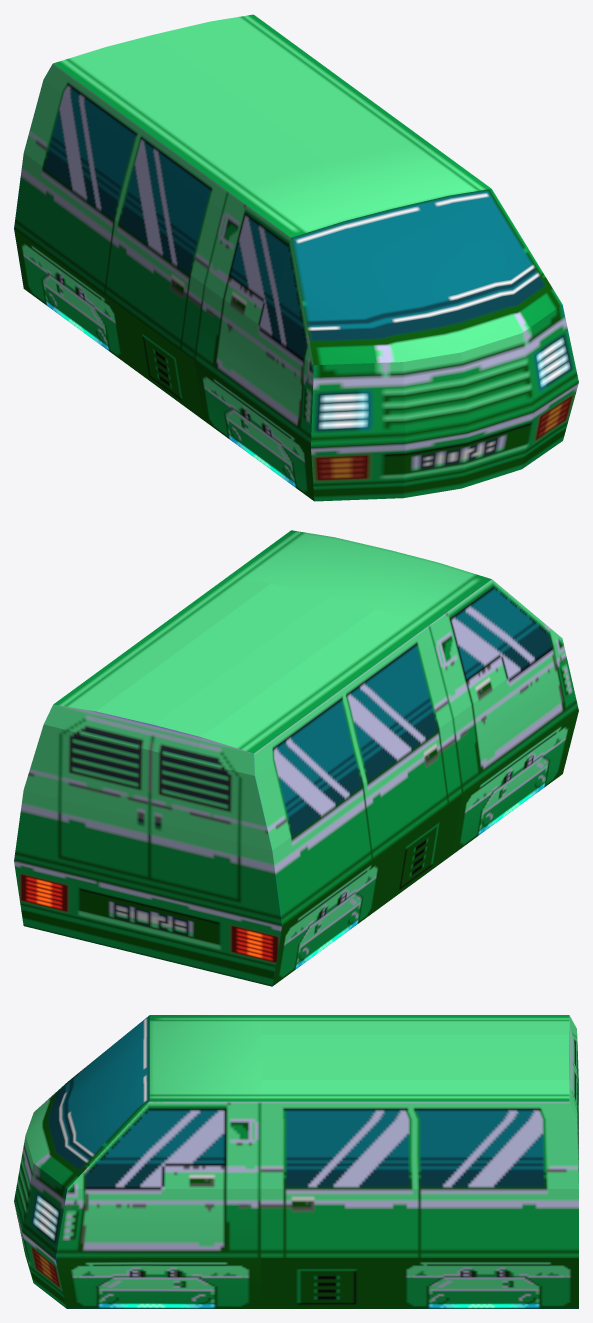
The model's file is hover-furgon.glb.
3 renders of one model, top to bottom at view 1: azimuth 30°, elevation 25°; view 2: azimuth 150°, elevation 25°; view 3: azimuth 270°, elevation 25°, orthographic. The views are drawn at different scales.
Parts seen in each view (by area): view 1: hover-furgon; view 2: hover-furgon; view 3: hover-furgon.
Boxes of the visible parts, x1,y1,x2,y2 form: hover-furgon: [14, 14, 578, 501]; hover-furgon: [14, 530, 578, 986]; hover-furgon: [14, 1015, 578, 1308].
Size of the model in its own units: 1.15 by 0.9368 by 2.39.
Materials: 1 (1 with a texture image).
